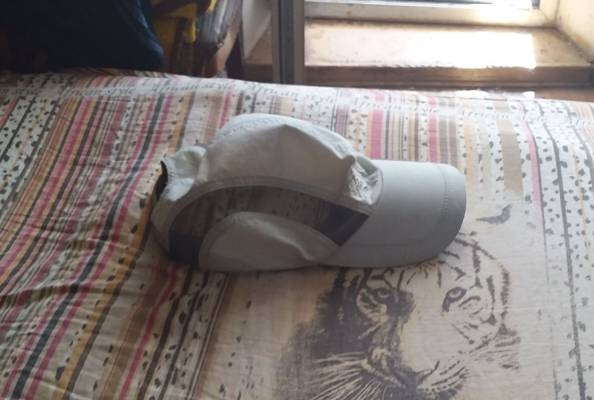Hat: (127, 93, 499, 292)
